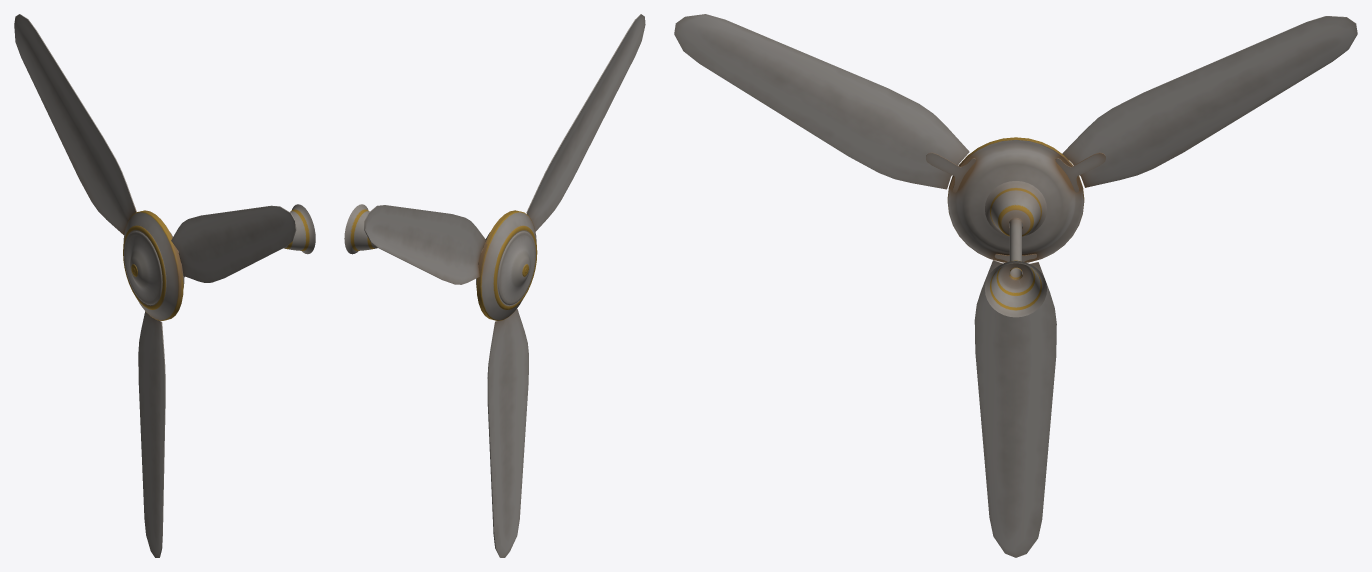
File: ceiling fan.FBX
3 views of the same model, side by side, from view 1: azimuth 30°, elevation 25°; view 2: azimuth 150°, elevation 25°; view 3: azimuth 270°, elevation 25° (orthographic). The views are drawn at different scales.
Parts seen in each view (by area): view 1: Line013, Object017; view 2: Line013, Object017; view 3: Line013, Object017.
Boxes of the visible parts, box(x1,y1,x2,y2) form: Line013: box(14, 14, 296, 557); Object017: box(184, 204, 315, 277); Line013: box(364, 14, 645, 557); Object017: box(344, 204, 377, 254); Line013: box(674, 14, 1357, 557); Object017: box(985, 181, 1046, 317).
Size of the model in its own units: 46.12 by 116 by 133.
Materials: 1 (1 with a texture image).
